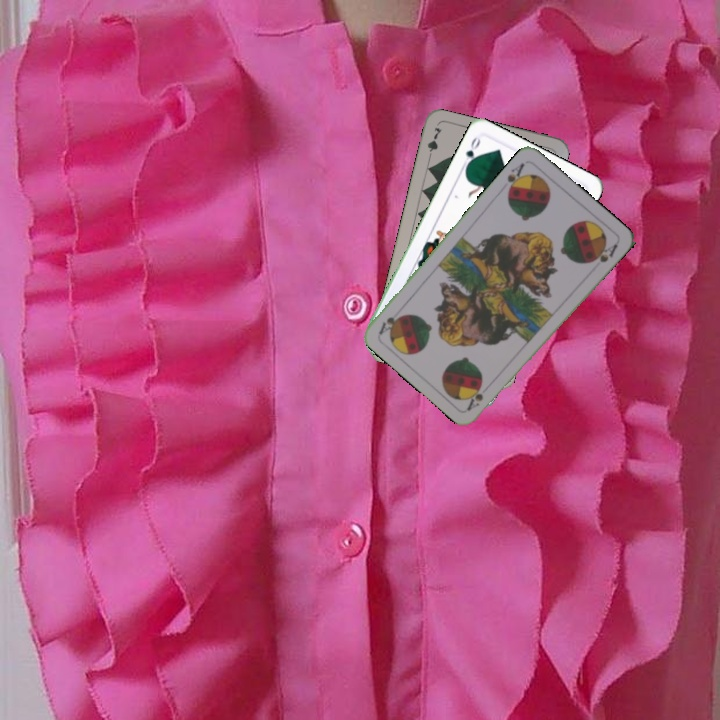G7: (423, 123, 445, 163)
GO: (458, 133, 483, 171)
SA: (503, 159, 528, 196), (463, 385, 486, 413)
